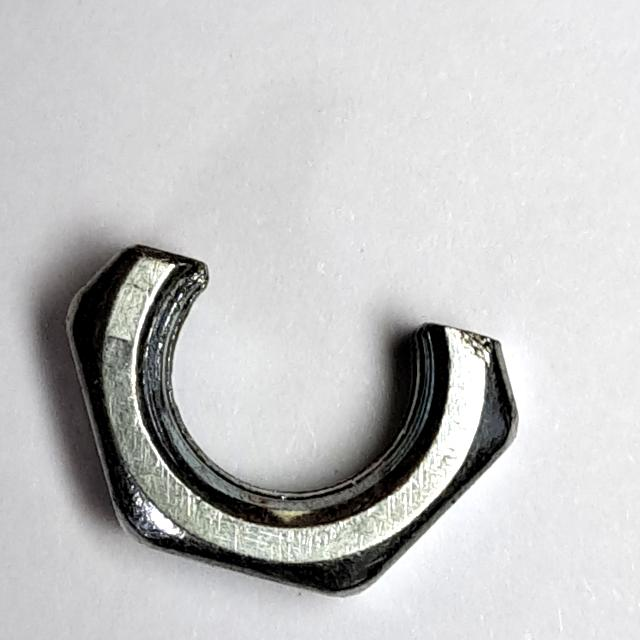Fracture: (55, 231, 531, 614)
